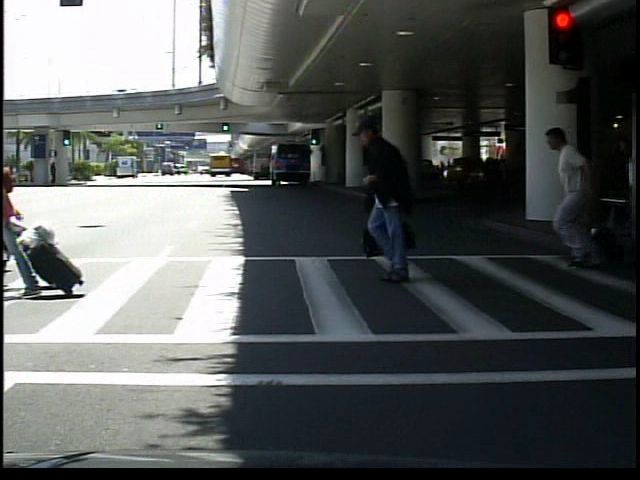person: (345, 114, 439, 284), (546, 113, 612, 271)
